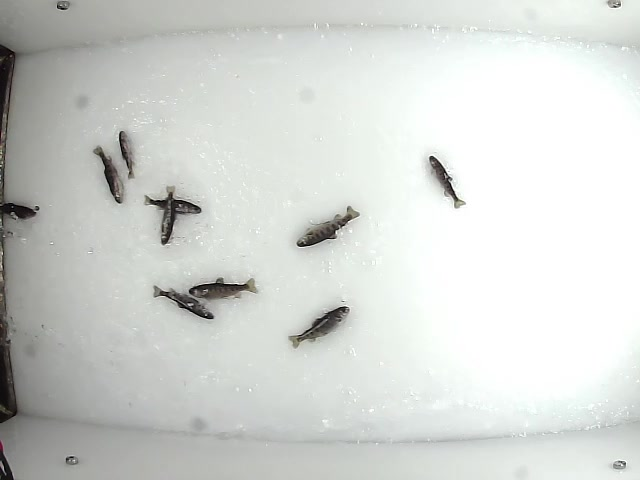fish: (293, 203, 361, 249), (287, 304, 350, 350), (427, 154, 468, 210), (150, 285, 215, 320), (92, 144, 126, 207), (186, 275, 260, 301), (141, 190, 204, 216), (158, 183, 179, 247), (116, 126, 136, 181)
